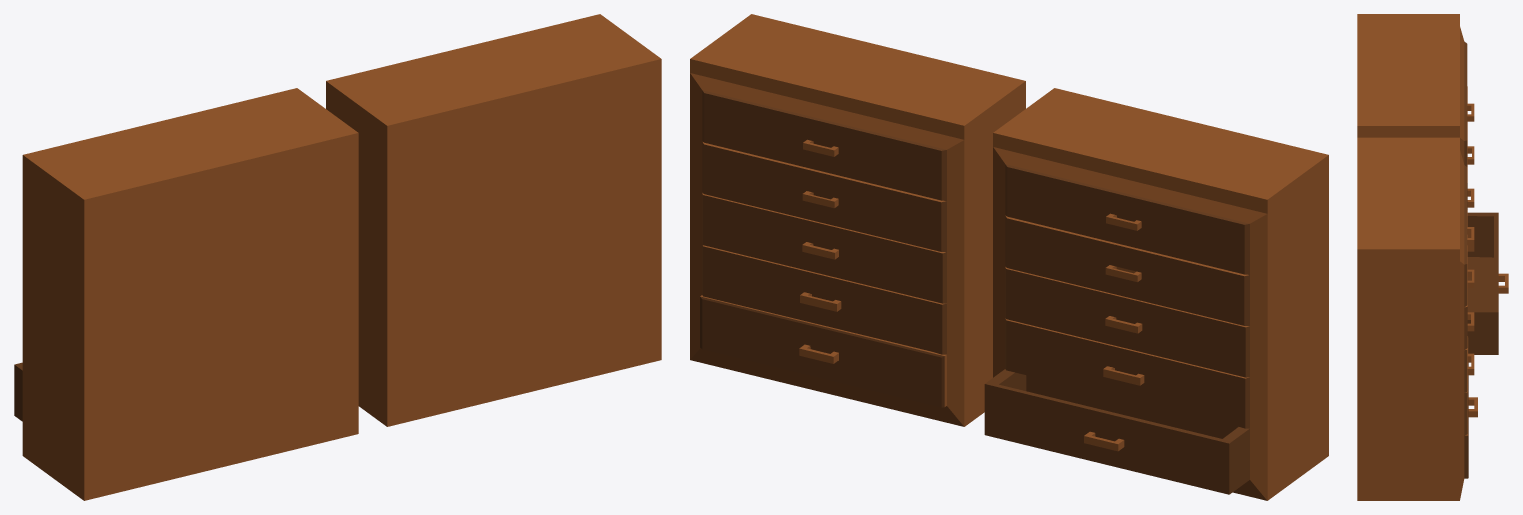
Rendered from Armarios.fbx.
3 renders of one model, left to right at view 1: azimuth 30°, elevation 25°; view 2: azimuth 150°, elevation 25°; view 3: azimuth 270°, elevation 25°, orthographic. The views are drawn at different scales.
Visible parts, largest first — view 1: ArmarioAberto, ArmarioFechado; view 2: ArmarioAberto, ArmarioFechado; view 3: ArmarioFechado, ArmarioAberto.
Boxes of the visible parts, box(x1,y1,x2,y2) form: ArmarioAberto: box(14, 88, 358, 500); ArmarioFechado: box(326, 14, 661, 426); ArmarioAberto: box(984, 88, 1328, 500); ArmarioFechado: box(690, 14, 1025, 426); ArmarioFechado: box(1357, 137, 1477, 500); ArmarioAberto: box(1357, 14, 1508, 354).
Size of the model in its own units: 847 by 422 by 230.
